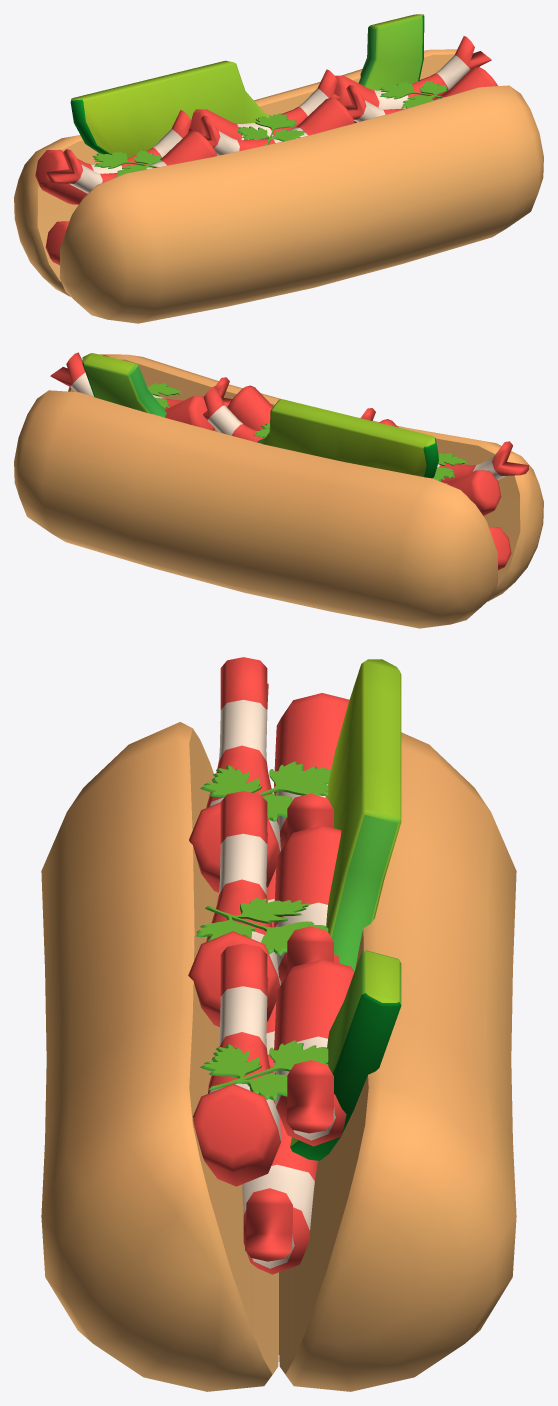
The model's file is HotDog_bun_01.fbx.
The picture shows the model from 3 angles, top to bottom: view 1: azimuth 30°, elevation 25°; view 2: azimuth 150°, elevation 25°; view 3: azimuth 270°, elevation 25°; orthographic projection. The views are drawn at different scales.
Parts seen in each view (by area): view 1: HotDog_bun_01; view 2: HotDog_bun_01; view 3: HotDog_bun_01.
Boxes of the visible parts, box(x1,y1,x2,y2) form: HotDog_bun_01: box(14, 14, 543, 323); HotDog_bun_01: box(14, 352, 543, 628); HotDog_bun_01: box(41, 657, 516, 1391).
Bounding box in the file's own units: 155 × 67.45 × 62.
